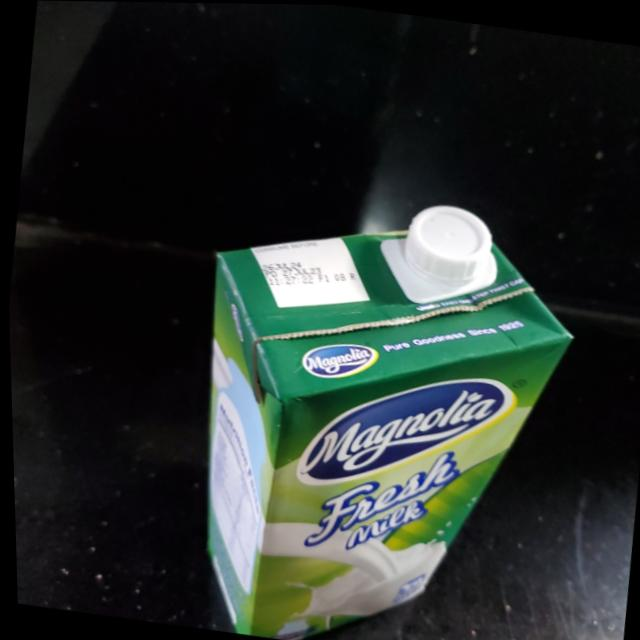milk: (167, 172, 593, 640)
